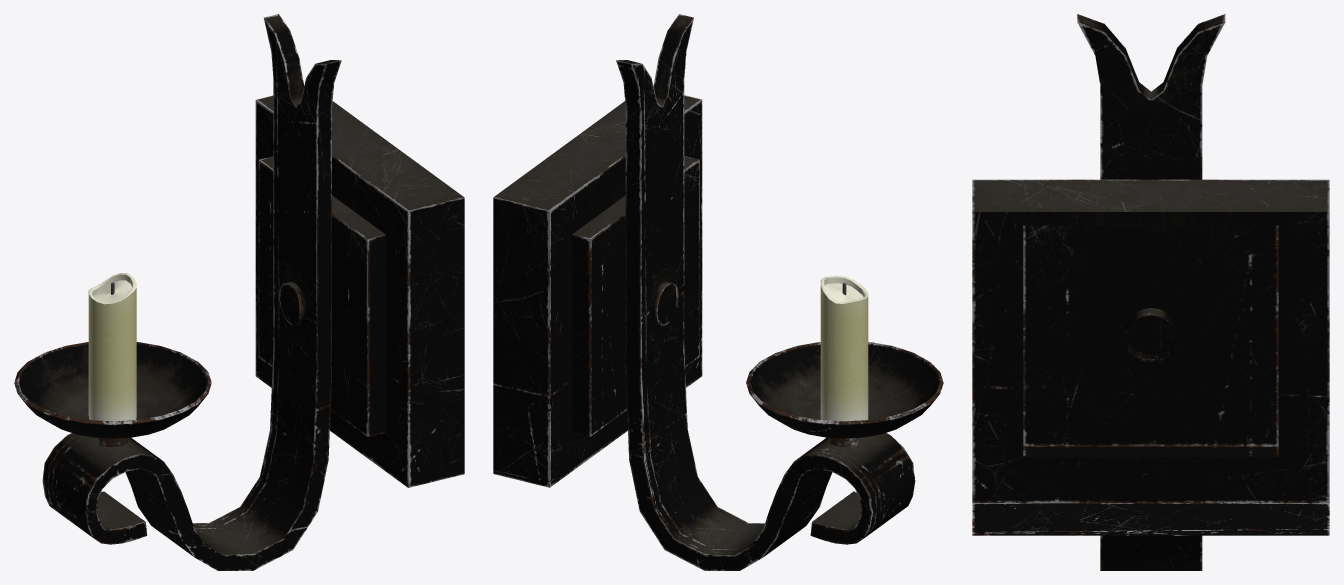
Rendered from CandleWallLamp.fbx.
The picture shows the model from 3 angles, left to right: view 1: azimuth 30°, elevation 25°; view 2: azimuth 150°, elevation 25°; view 3: azimuth 270°, elevation 25°; orthographic projection. The views are drawn at different scales.
Visible parts, largest first — view 1: Lampara; view 2: Lampara; view 3: Lampara.
Boxes of the visible parts, box(x1,y1,x2,y2) form: Lampara: box(14, 14, 464, 570); Lampara: box(493, 14, 943, 570); Lampara: box(972, 14, 1329, 570).
Size of the model in its own units: 1703 by 2247 by 1246.
